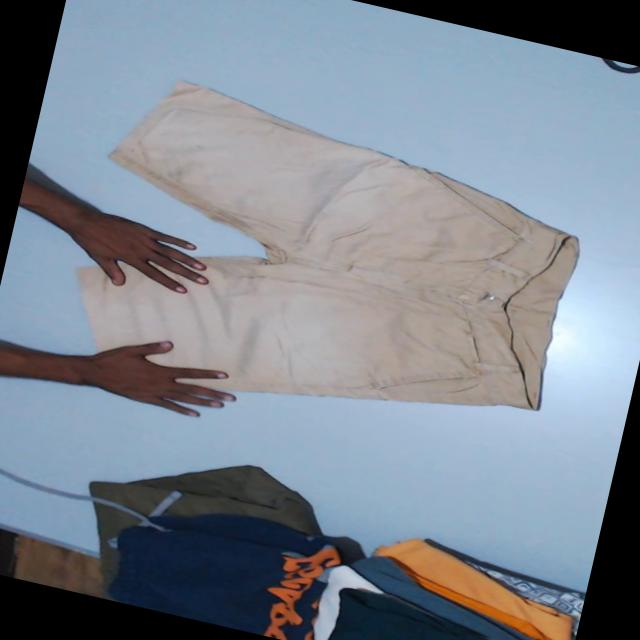new-garment: (77, 81, 577, 408)
